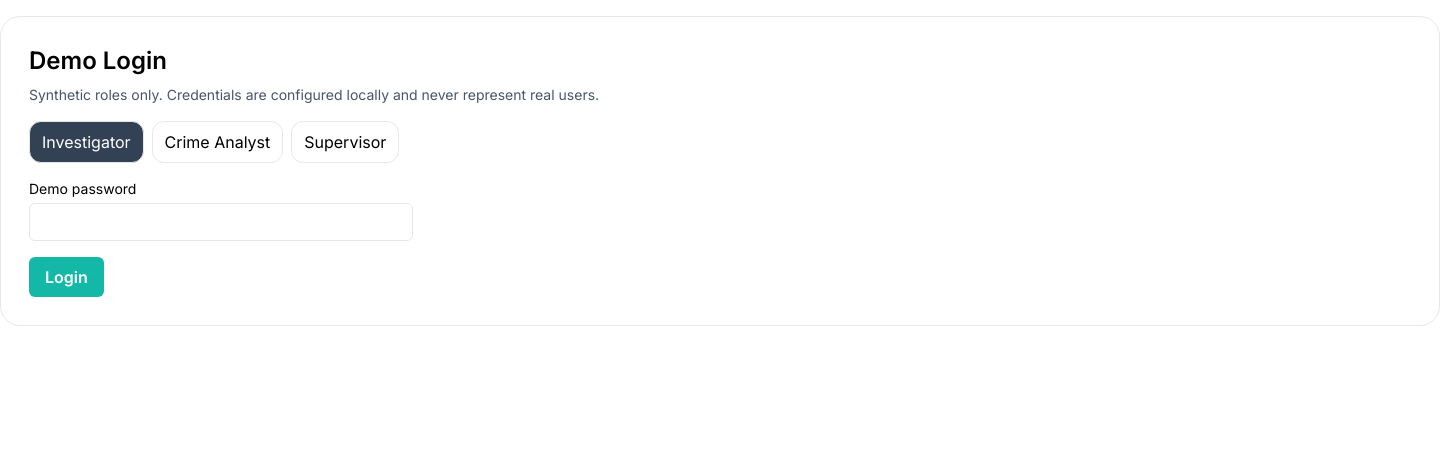
Test: supports successful role login and logout
Type "demo" into the password field labelled "Demo password".
click(221, 222); type("demo")  # box left=29, top=203, right=413, bottom=241
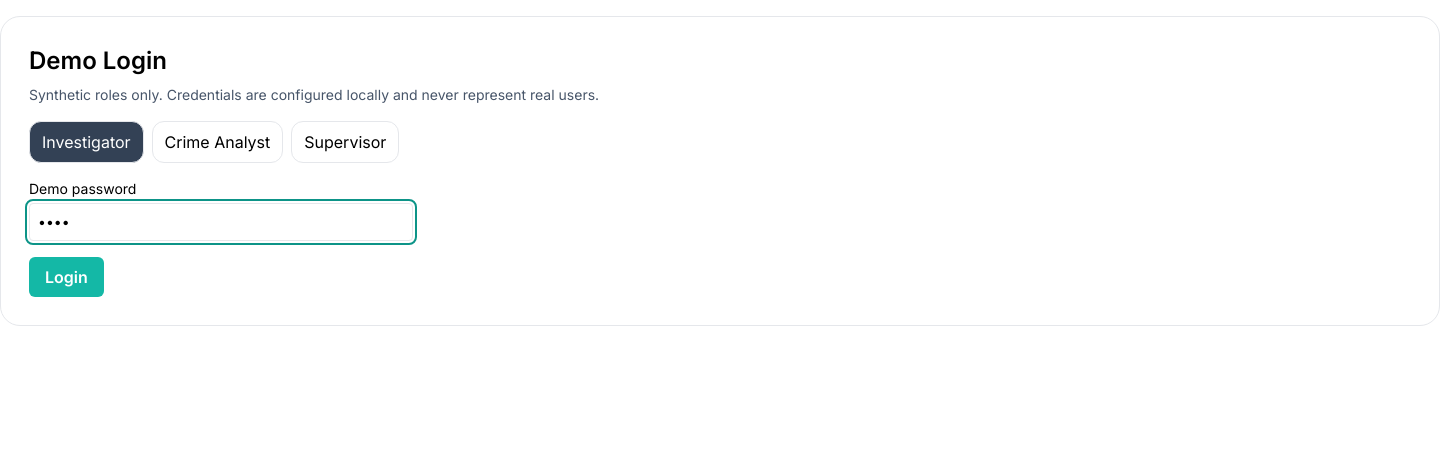
Click the button "Login".
click(66, 277)  # box left=29, top=257, right=104, bottom=297
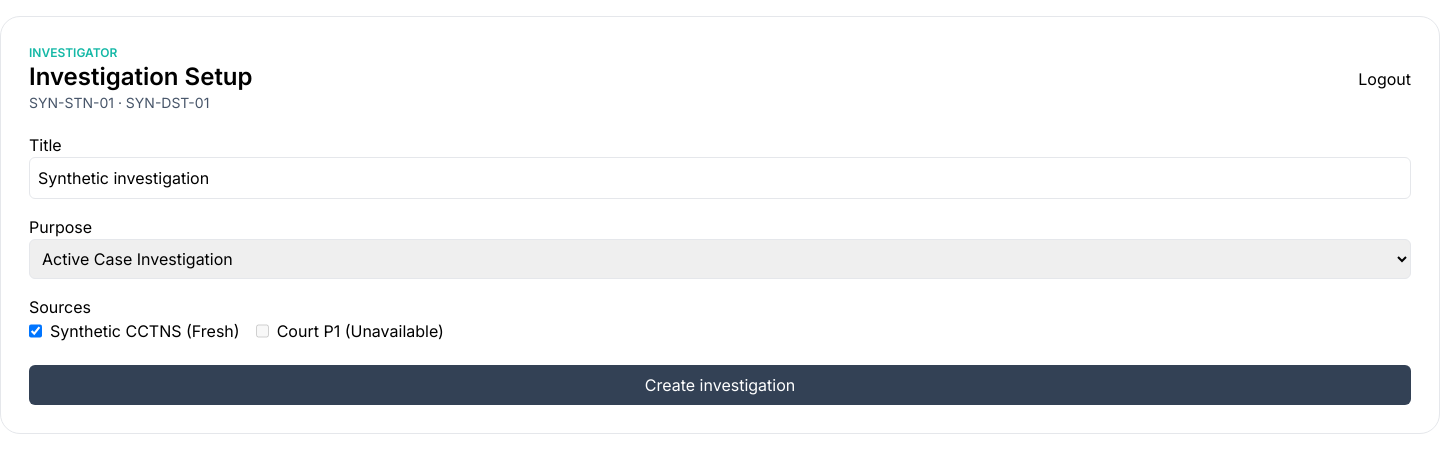
Expected: the text "INVESTIGATOR" is shown, left=29, top=45, right=117, bottom=60
Click the button "Logout".
click(1385, 79)  # box left=1358, top=45, right=1411, bottom=113
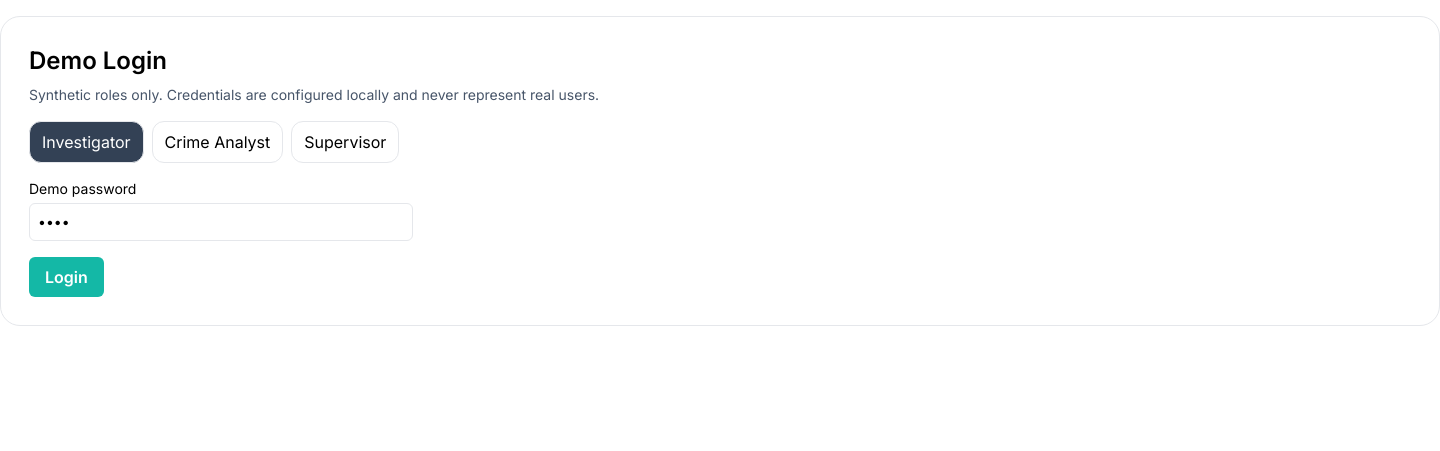
Now the heading "Demo Login" is shown, box left=29, top=46, right=167, bottom=75
